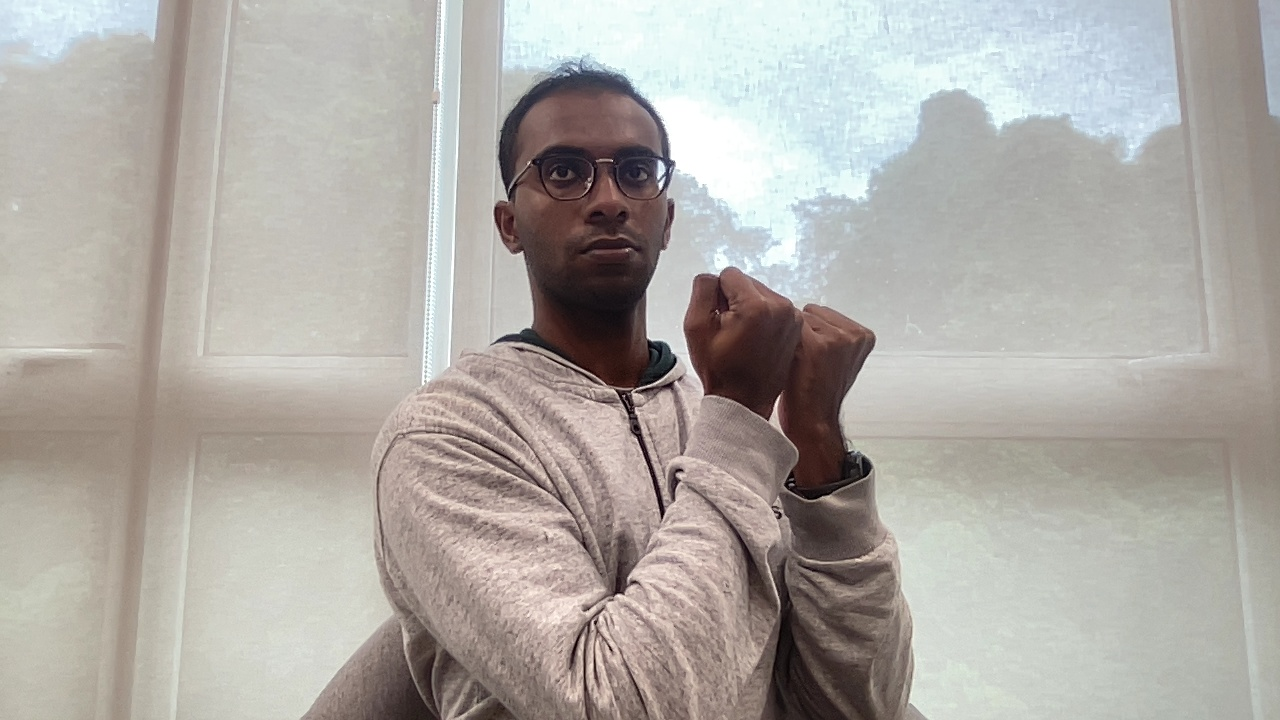finish: (680, 259, 882, 467)
